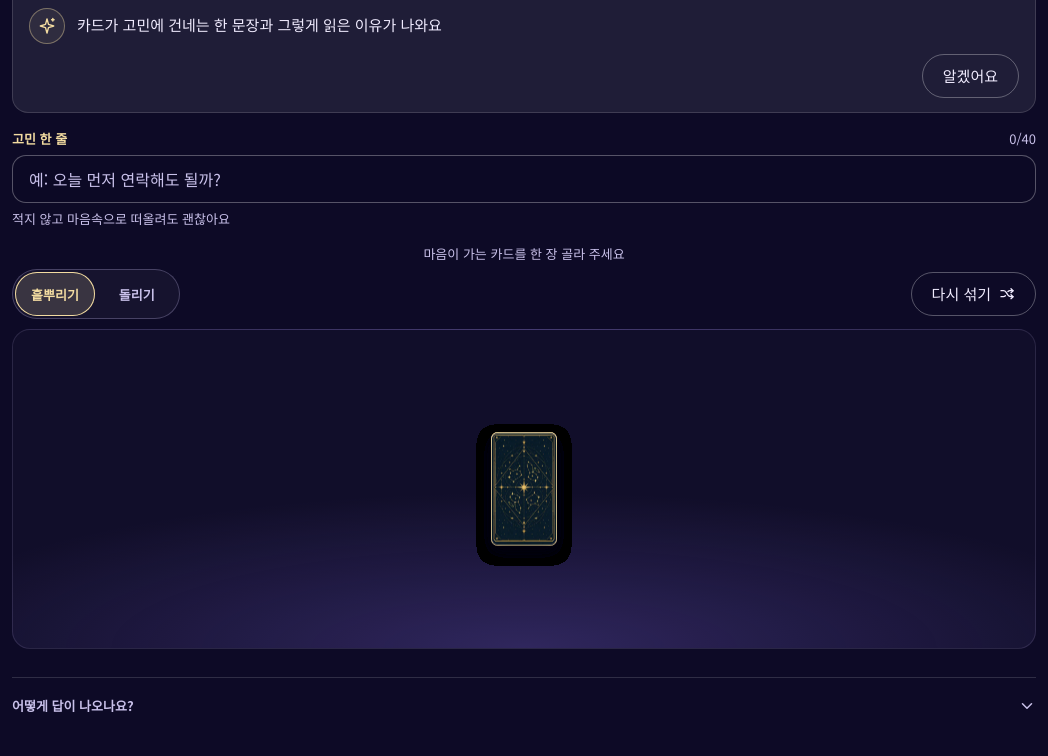
Test: 지금의 한 장 how-to › explains how answers are made, folded until asked, without naming any model
(page scrolled)
Step 1. Click the button "어떻게 답이 나오나요?" → (73, 705), box [12, 684, 1036, 728]
(page scrolled)
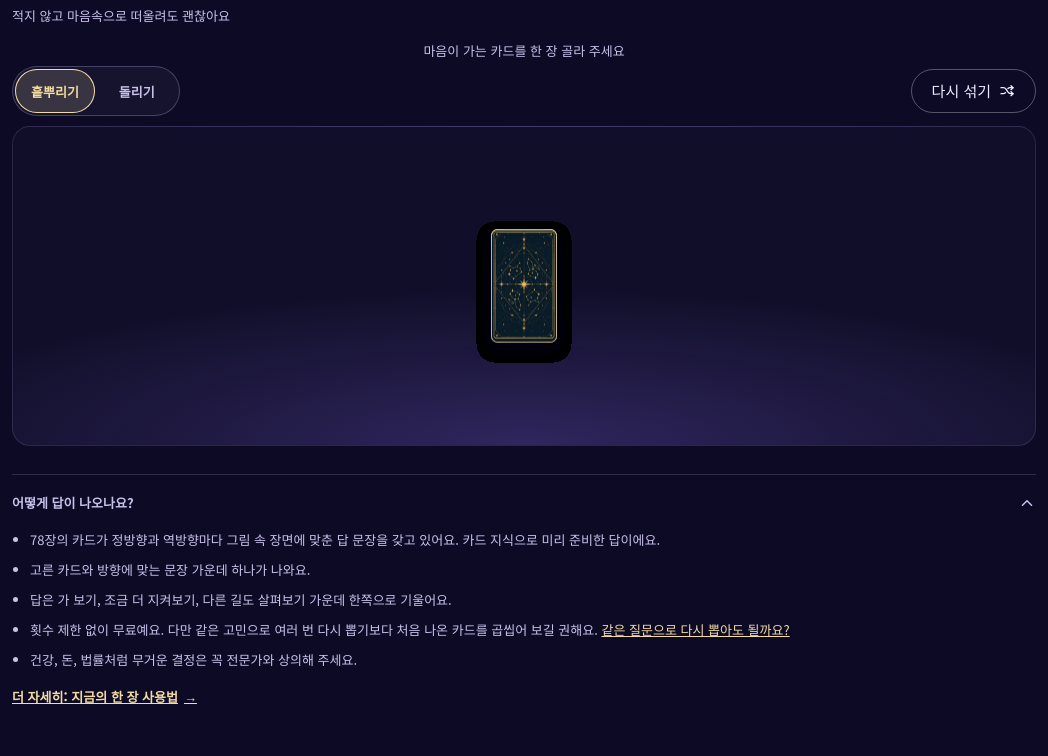
Expected: the button "어떻게 답이 나오나요?" is expanded, [12, 481, 1036, 525]
Expected: the element named "어떻게 답이 나오나요?" shows "78장의 카드가 정방향과 역방향마다", [30, 530, 660, 549]
Expected: the element named "어떻게 답이 나오나요?" shows "카드 지식으로 미리 준비한 답", [30, 530, 660, 549]
